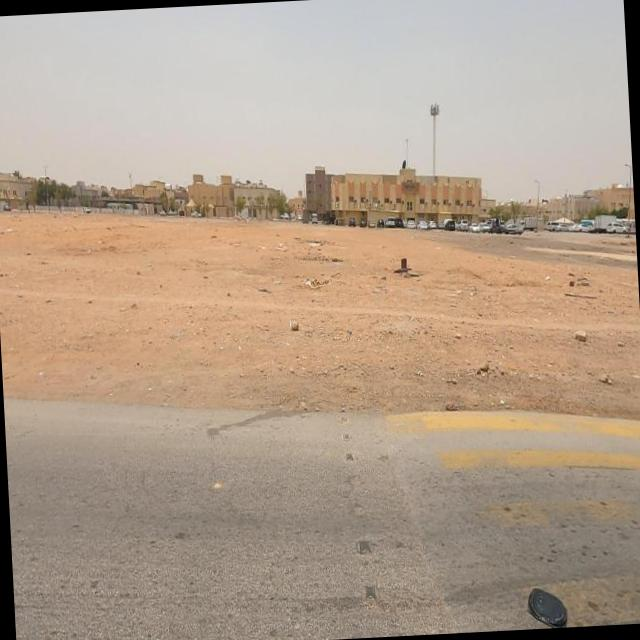debris: (284, 254, 345, 311), (273, 288, 316, 354), (292, 218, 332, 272)
